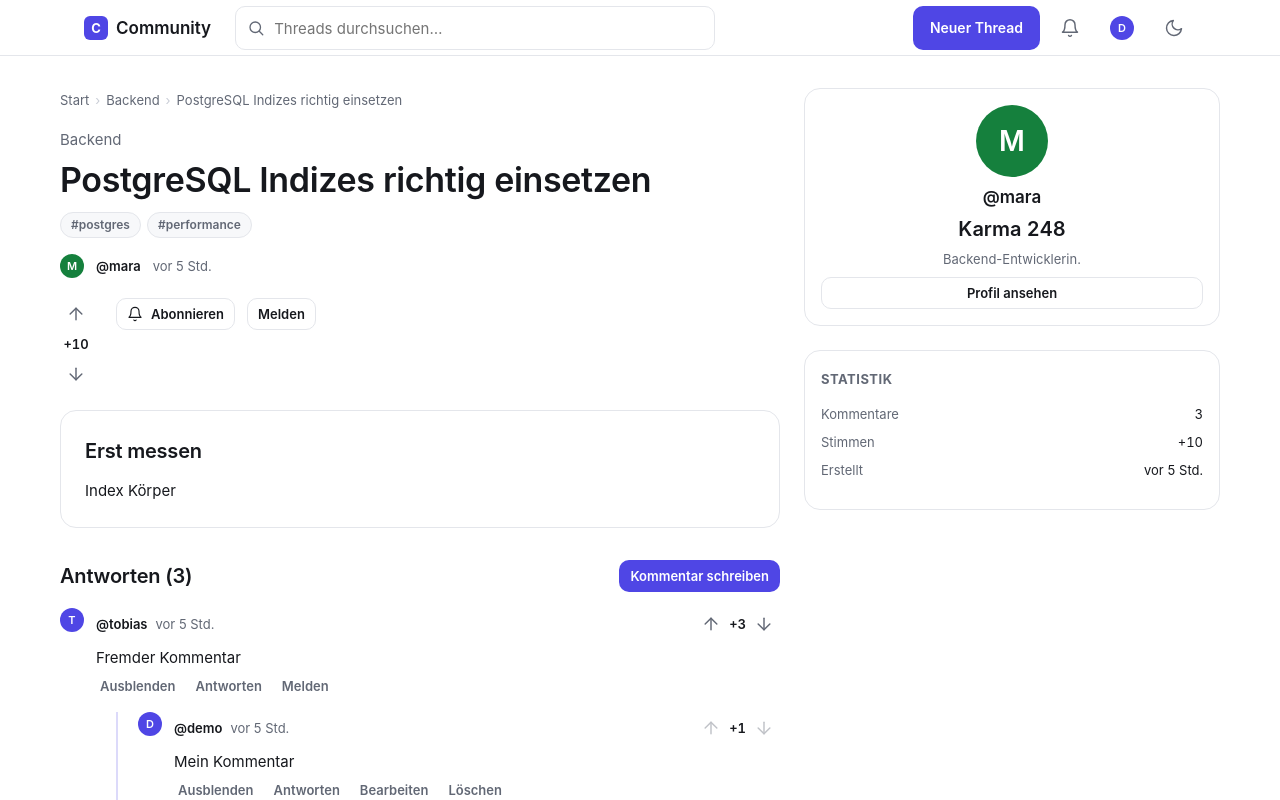
Test case: forum thread page › shows the wait message when a write is rate limited
Check: the heading "PostgreSQL Indizes richtig einsetzen" is shown, box [60,159,651,200]
Step 1. Click the button named "Thread upvoten" → [76, 314], box [60,298,92,330]
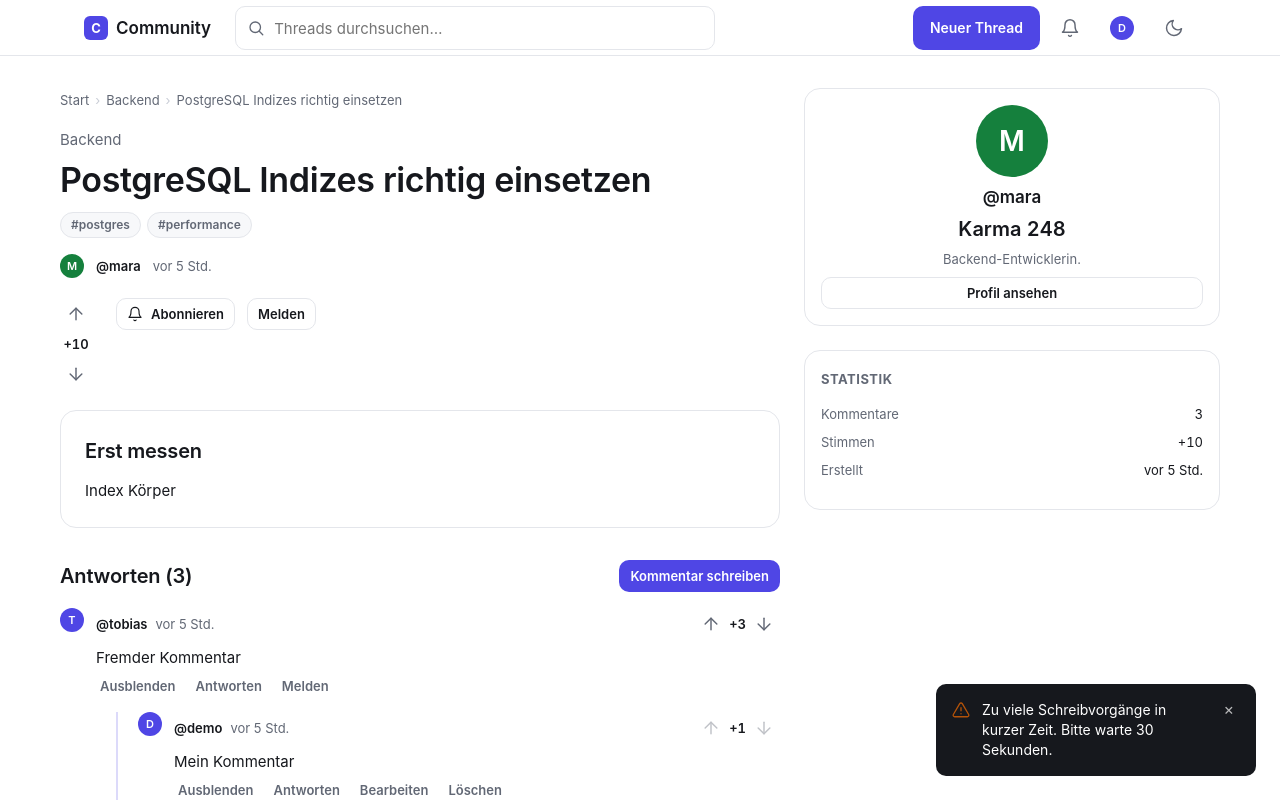
Check: the text "30 Sekunden" is shown, box [982,701,1166,758]
